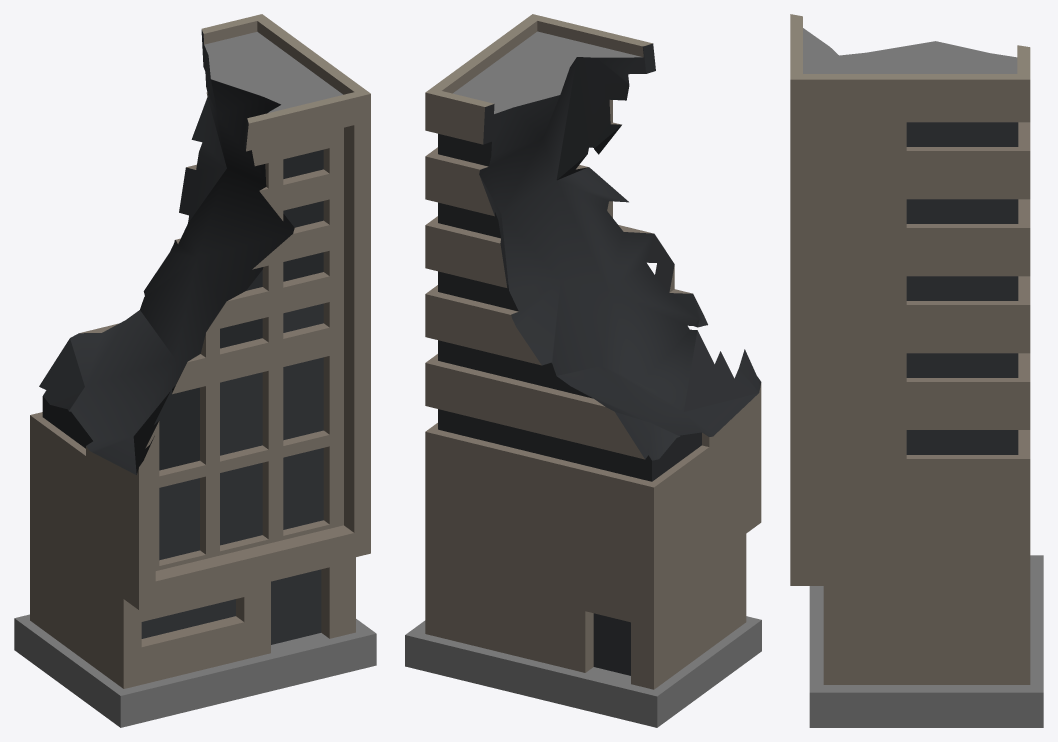
File: SM_Bld_City_Destroyed_01.fbx
3 views of the same model, side by side, from view 1: azimuth 30°, elevation 25°; view 2: azimuth 150°, elevation 25°; view 3: azimuth 270°, elevation 25° (orthographic). The views are drawn at different scales.
Parts seen in each view (by area): view 1: SM_Bld_City_Destroyed_01; view 2: SM_Bld_City_Destroyed_01; view 3: SM_Bld_City_Destroyed_01.
Part boxes in pixels (x1,y1,x2,y2): SM_Bld_City_Destroyed_01: (14,14,376,727); SM_Bld_City_Destroyed_01: (405,14,761,727); SM_Bld_City_Destroyed_01: (790,14,1043,727).
Size of the model in its own units: 76.13 by 165 by 59.34.
